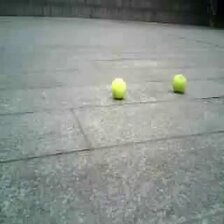tennis: (111, 78, 127, 98), (172, 74, 187, 91)
